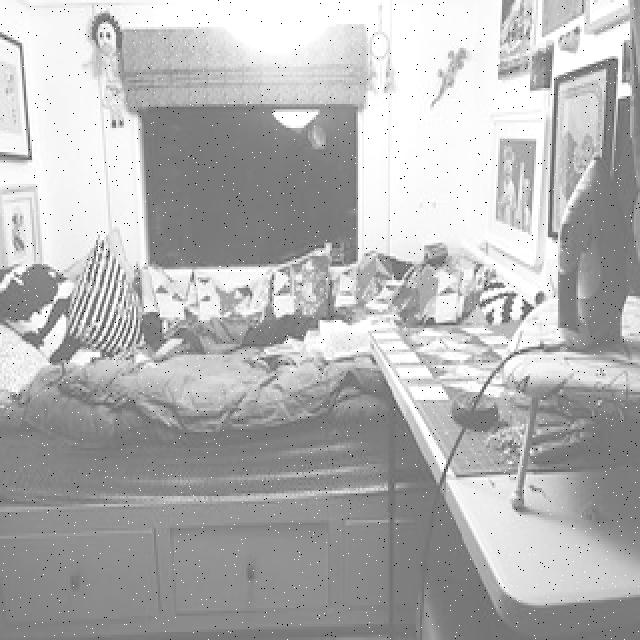bed: (2, 203, 516, 471)
